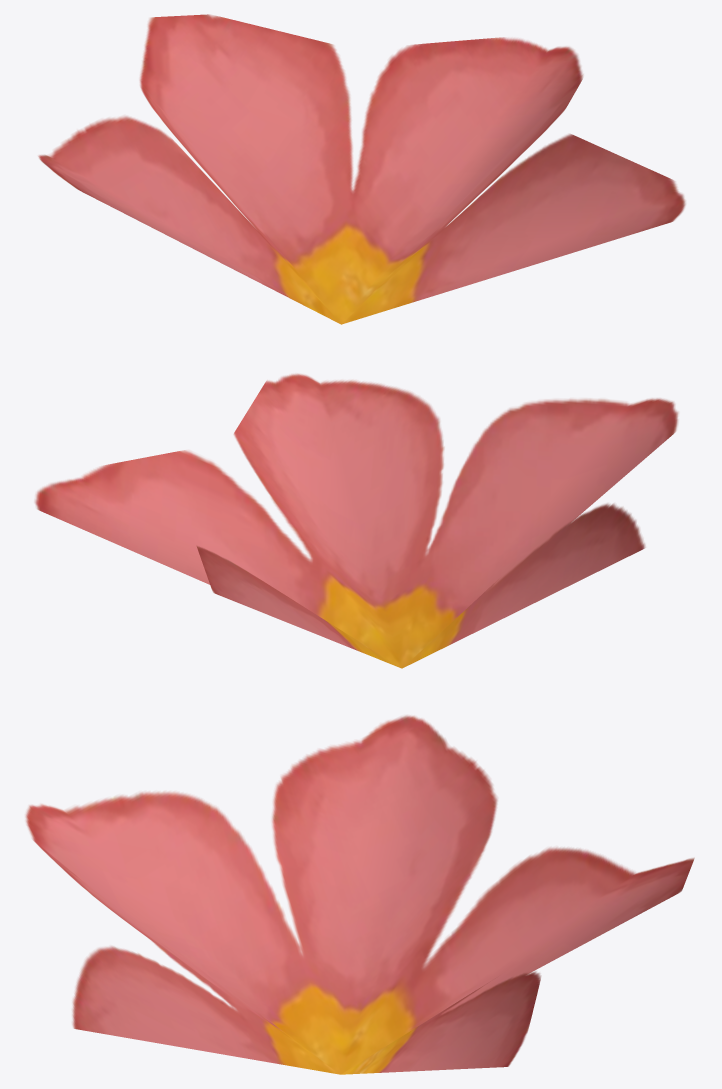
File: flower-petal-tzg4jcqyws-transformed.glb
3 renders of one model, top to bottom at view 1: azimuth 30°, elevation 25°; view 2: azimuth 150°, elevation 25°; view 3: azimuth 270°, elevation 25°, orthographic. The views are drawn at different scales.
Visible parts, largest first — view 1: Petal_5; view 2: Petal_5; view 3: Petal_5.
Boxes of the visible parts, x1,y1,x2,y2 form: Petal_5: [38, 14, 685, 324]; Petal_5: [34, 373, 678, 668]; Petal_5: [25, 715, 694, 1074].
Bounding box in the file's own units: 0.834 × 0.2888 × 0.7952.
1 material, 1 textured.
